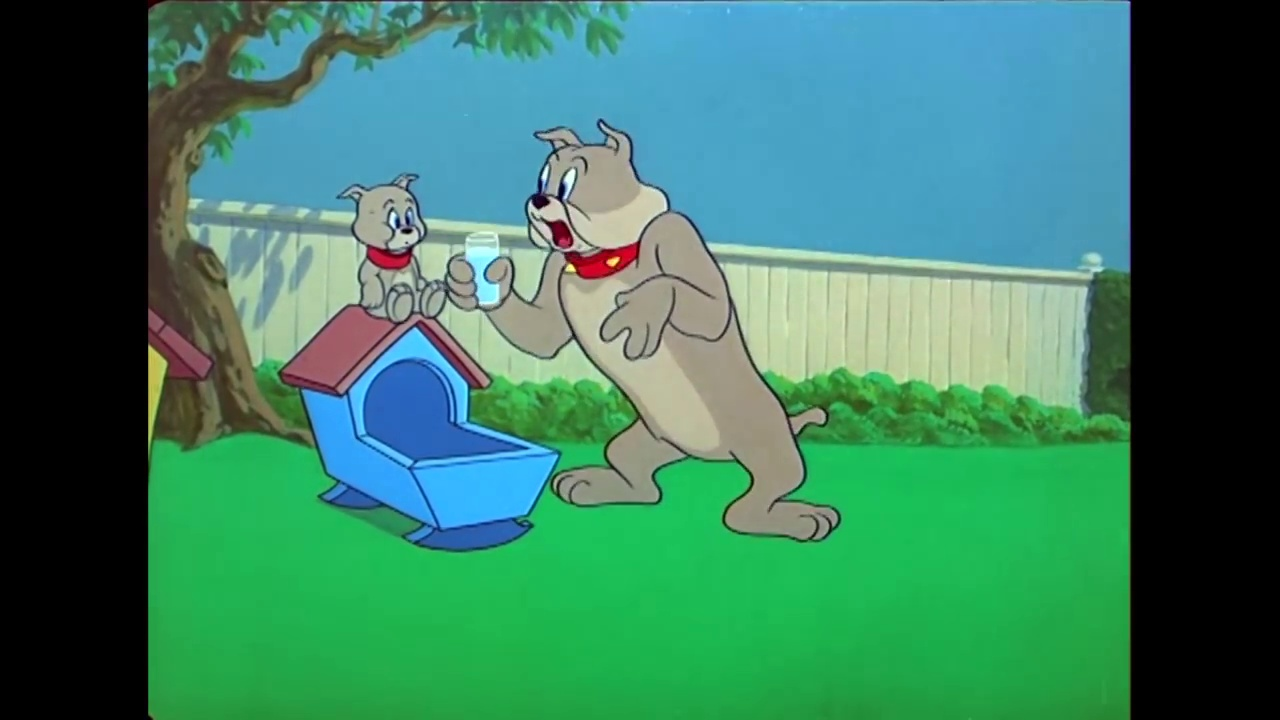spike: (519, 121, 668, 283)
